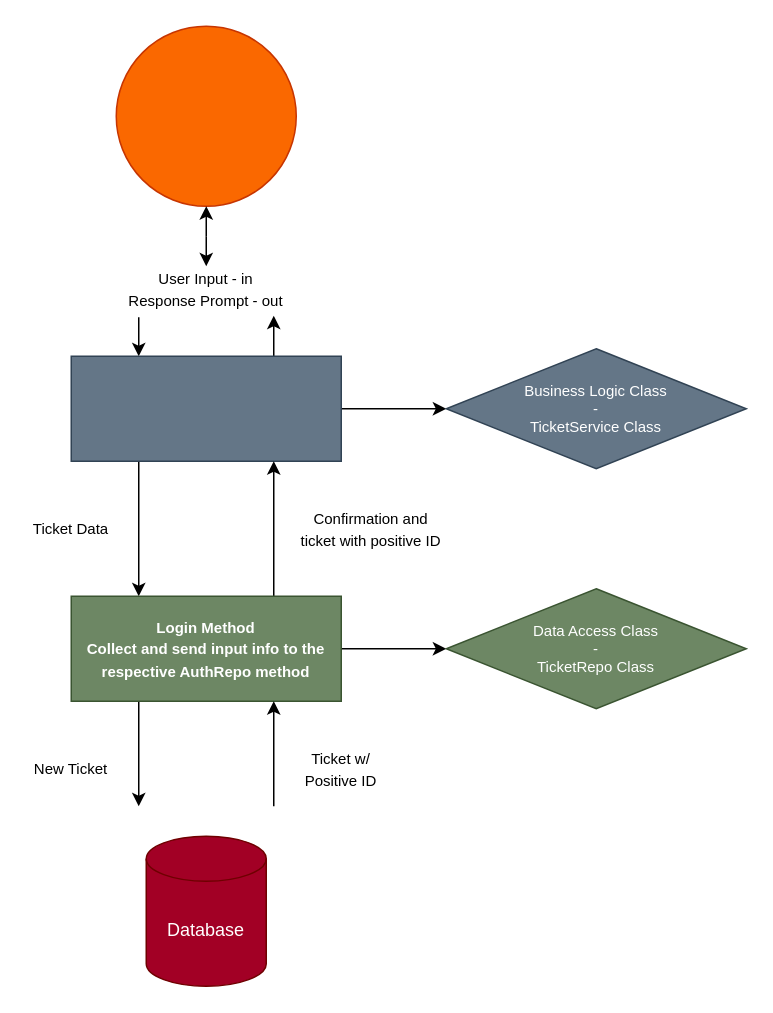
Some shapes in this 773 by 1013 pixel diagram are drawn without their labels. The centre of each missing label's shape, as x and y in pixels:
Submit Method Collect and send input info to the respective TicketRepo method: (205,408)
User + Console Menu Service: (205,115)
